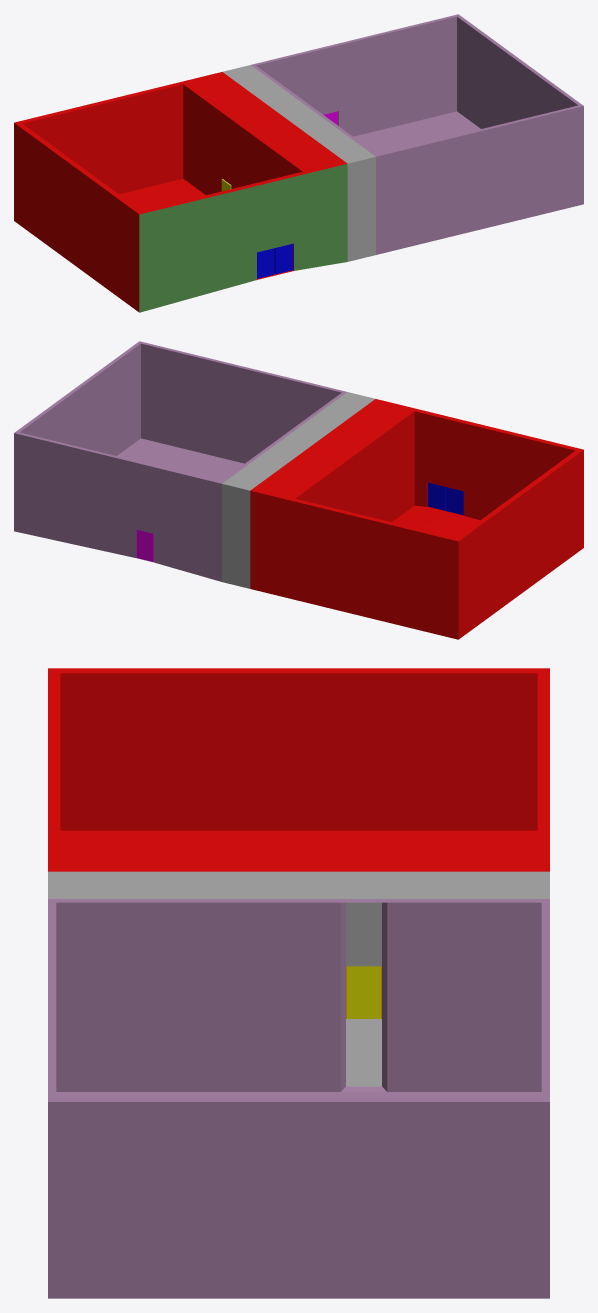
The model's file is fin4.fbx.
3 renders of one model, top to bottom at view 1: azimuth 30°, elevation 25°; view 2: azimuth 150°, elevation 25°; view 3: azimuth 270°, elevation 25°, orthographic. The views are drawn at different scales.
Parts seen in each view (by area): view 1: pCube1, pCube3, pCube2; view 2: pCube1, pCube4, pCube3, pCube2; view 3: pCube1, pCube5.
Boxes of the visible parts, x1=… form: pCube1: x1=14, y1=14, x2=583, y2=312; pCube3: x1=274, y1=243, x2=293, y2=274; pCube2: x1=257, y1=248, x2=274, y2=278; pCube1: x1=14, y1=341, x2=583, y2=639; pCube4: x1=136, y1=529, x2=153, y2=561; pCube3: x1=427, y1=482, x2=445, y2=510; pCube2: x1=446, y1=487, x2=463, y2=515; pCube1: x1=48, y1=668, x2=549, y2=1298; pCube5: x1=346, y1=966, x2=381, y2=1018.
Bounding box in the file's own units: 638 × 135 × 312.
